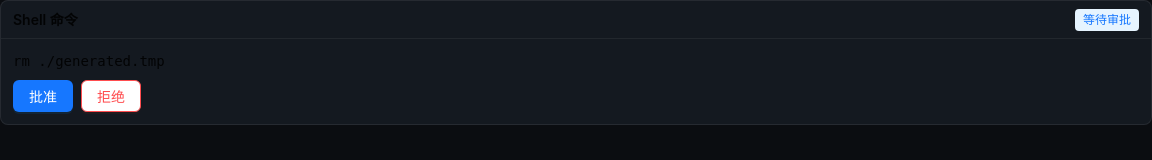
Scenario: ApprovalCard › 等待决策期间禁止重复提交
The width and height of the screenshot is (1152, 160).
Later steps or results of the test are not shown.
Click the button "批准". click: (43, 96)
box: [13, 80, 73, 112]
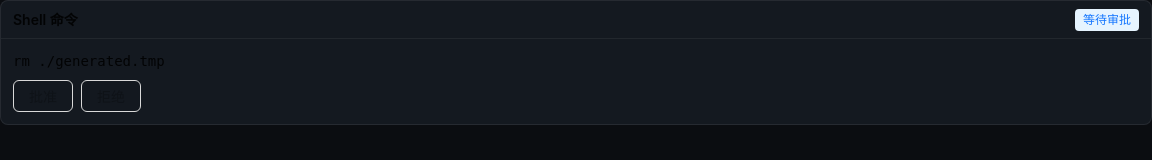
Now the button "批准" is disabled, box [13, 80, 73, 112]
Now the button "拒绝" is disabled, box [81, 80, 141, 112]
